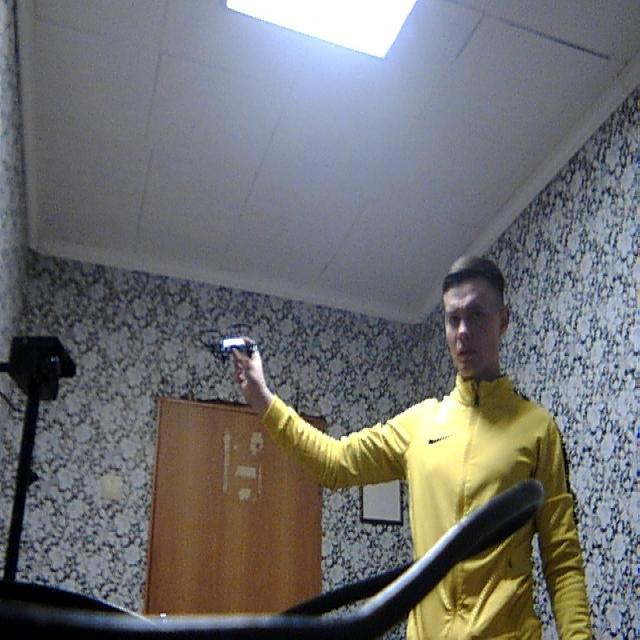drone: (196, 312, 274, 368)
